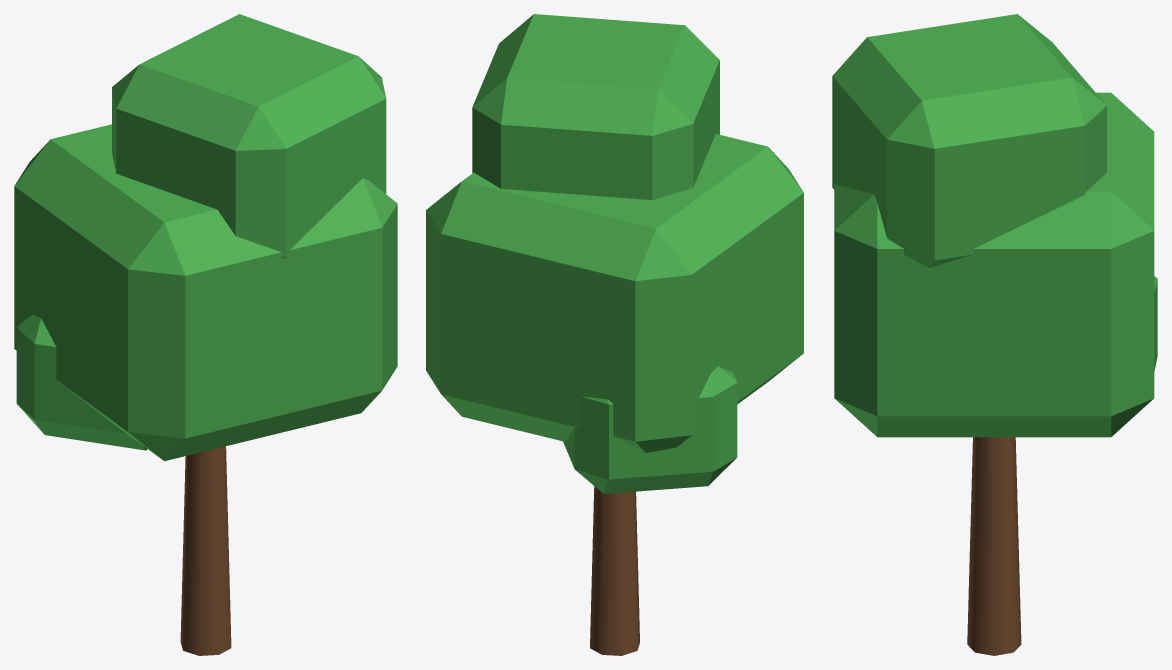
Rendered from tree_round.glb.
3 renders of one model, left to right at view 1: azimuth 30°, elevation 25°; view 2: azimuth 150°, elevation 25°; view 3: azimuth 270°, elevation 25°, orthographic. The views are drawn at different scales.
Visible parts, largest first — view 1: tree_leaves, tree_trunk; view 2: tree_leaves, tree_trunk; view 3: tree_leaves, tree_trunk.
Boxes of the visible parts, x1,y1,x2,y2 form: tree_leaves: (14,14,397,461); tree_trunk: (180,446,231,655); tree_leaves: (426,14,803,493); tree_trunk: (590,486,639,655); tree_leaves: (832,14,1157,437); tree_trunk: (967,437,1021,655).
Bounding box in the file's own units: 2.84 × 5.4 × 2.64.
